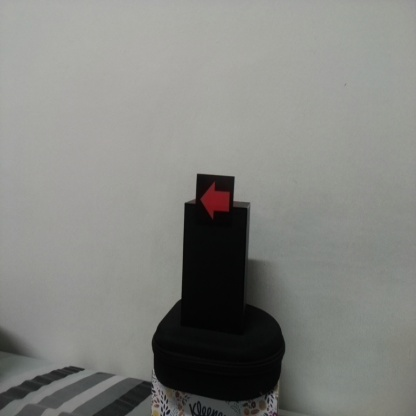id_4: (196, 175, 234, 225)
